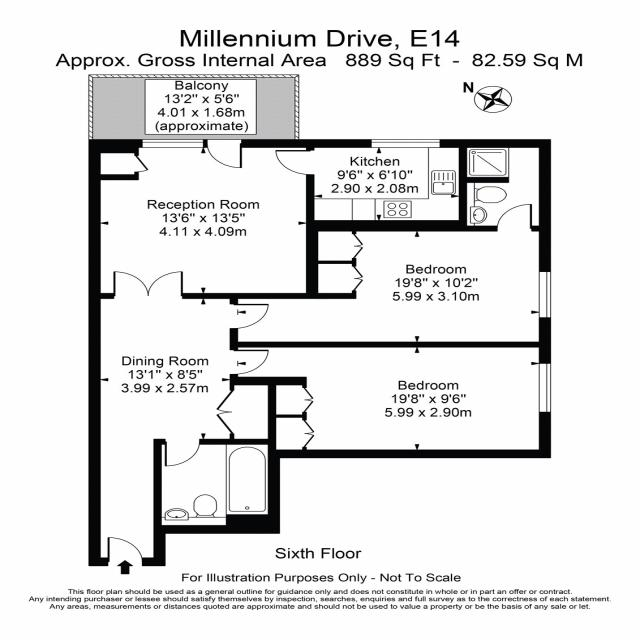DOOR: (106, 536, 144, 566), (273, 149, 315, 176), (206, 139, 243, 169), (229, 302, 270, 329), (496, 203, 533, 232), (163, 439, 201, 467), (230, 349, 270, 375)
DOUBLE DOOR: (112, 268, 186, 299)
ROOM: (88, 271, 277, 567), (229, 203, 552, 348), (229, 341, 552, 459), (88, 139, 318, 299), (274, 139, 467, 232)
WINDOW: (370, 138, 441, 149), (538, 363, 552, 413), (538, 271, 552, 319), (141, 139, 204, 148)
